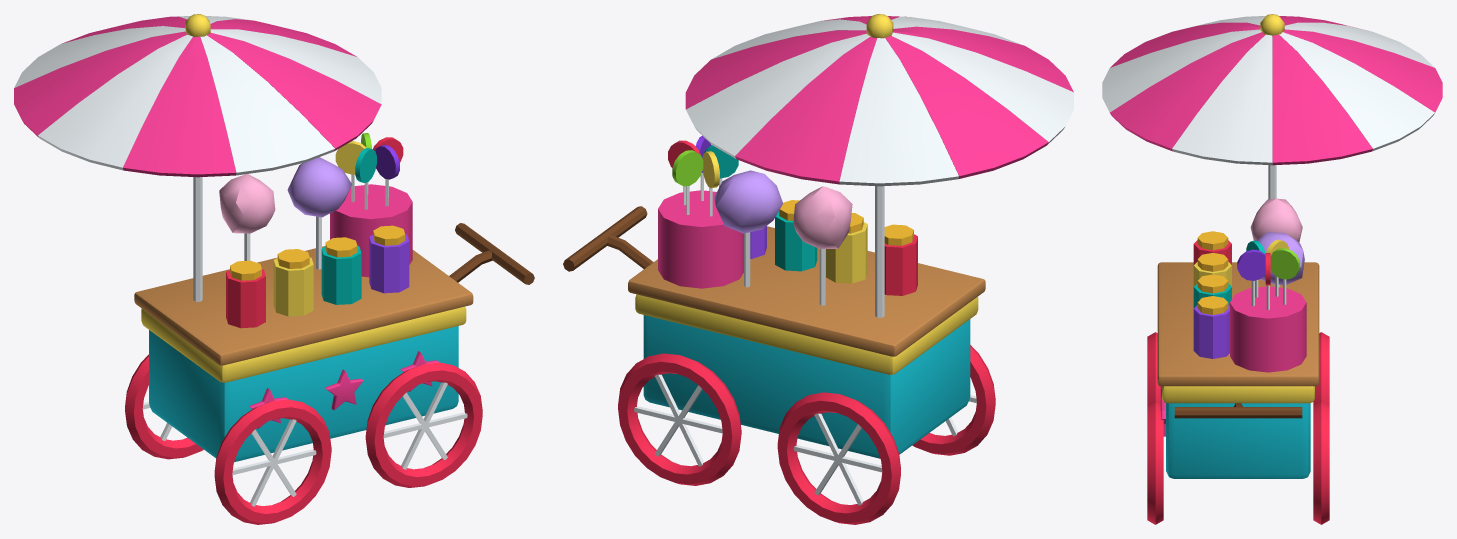
Rendered from lobby_candy_cart.obj.
3 renders of one model, left to right at view 1: azimuth 30°, elevation 25°; view 2: azimuth 150°, elevation 25°; view 3: azimuth 270°, elevation 25°, orthographic. The views are drawn at different scales.
Parts seen in each view (by area): view 1: lobby_candy_cart; view 2: lobby_candy_cart; view 3: lobby_candy_cart.
Part boxes in pixels (<box>): lobby_candy_cart: <box>14,14,534,524</box>; lobby_candy_cart: <box>563,14,1073,524</box>; lobby_candy_cart: <box>1102,14,1442,524</box>.
Size of the model in its own units: 11.16 by 11.17 by 8.
Materials: 1 (1 with a texture image).
